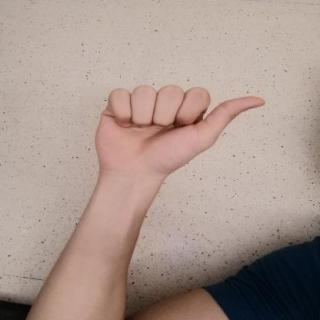DAD: (81, 78, 276, 184)
